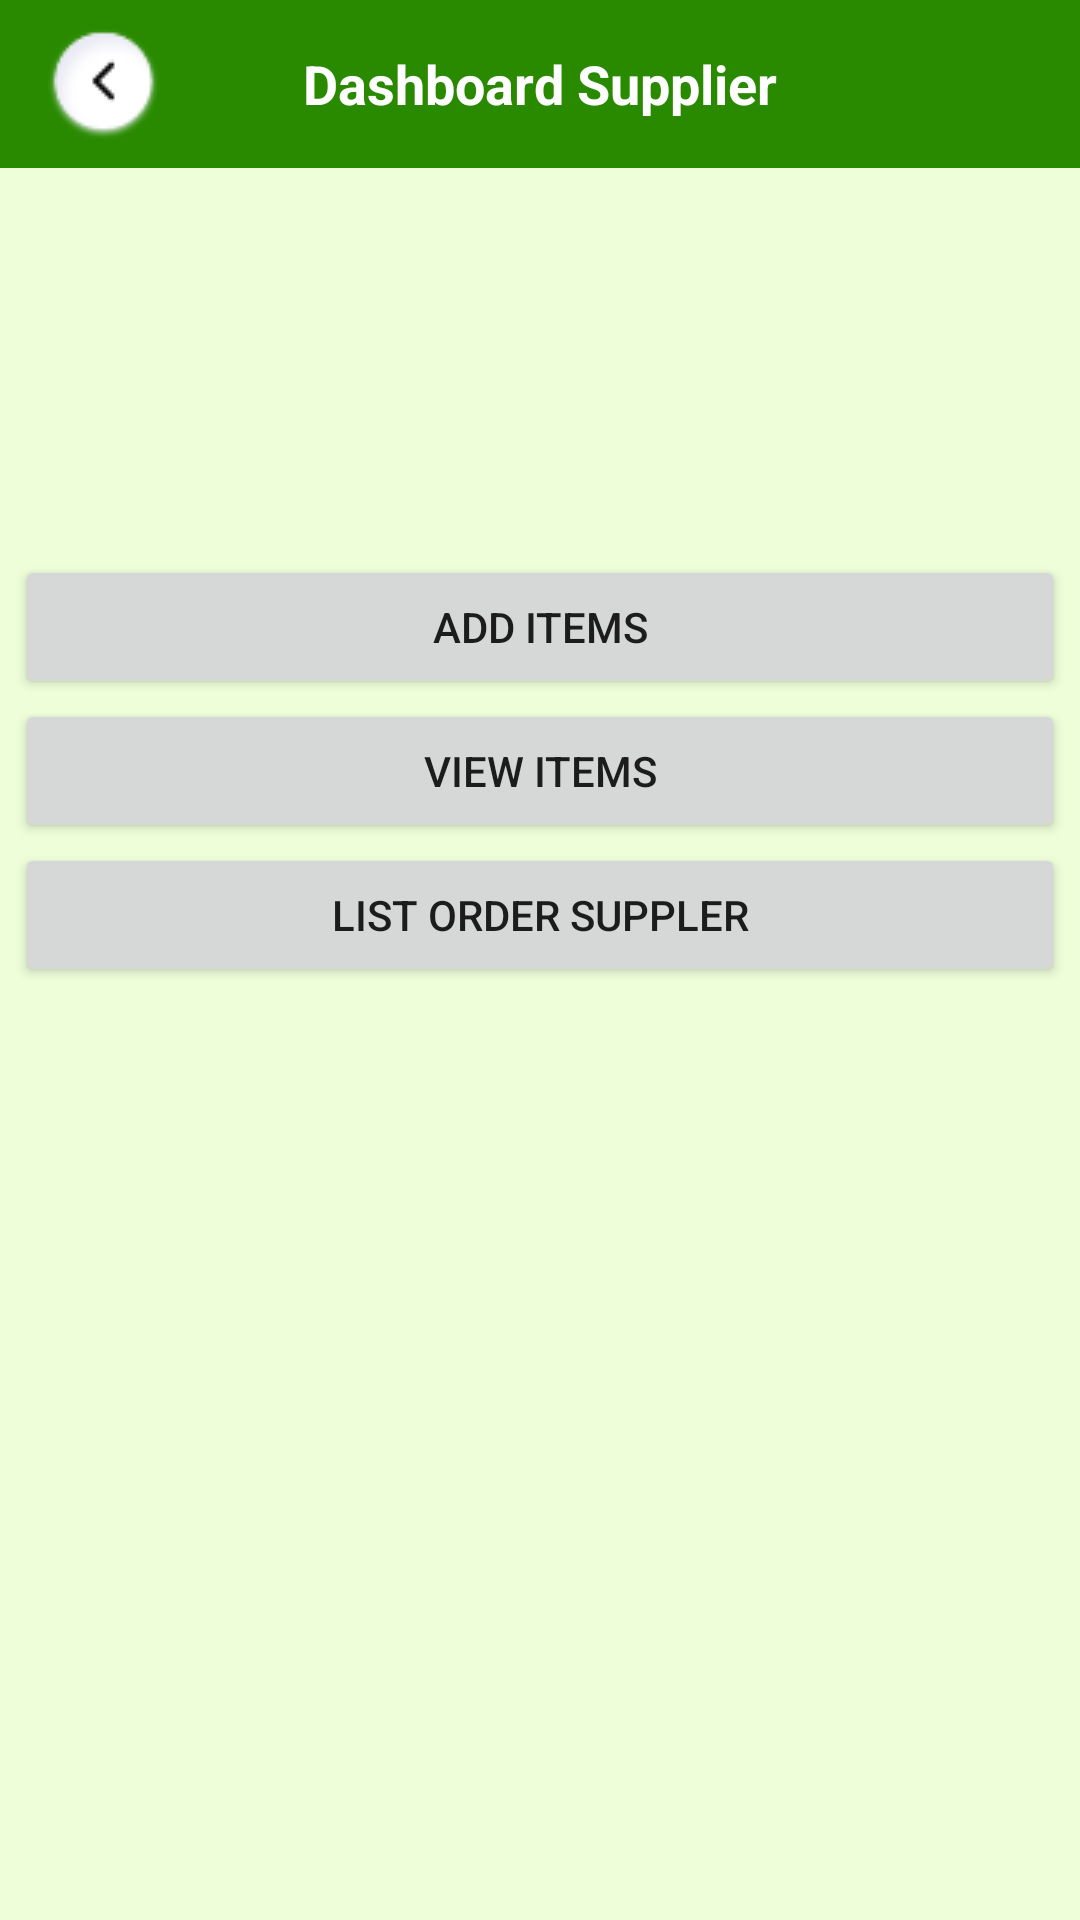

Icon click points for this 1080 x 1920 phone screenshot, format (x,y):
back: (103,84)
